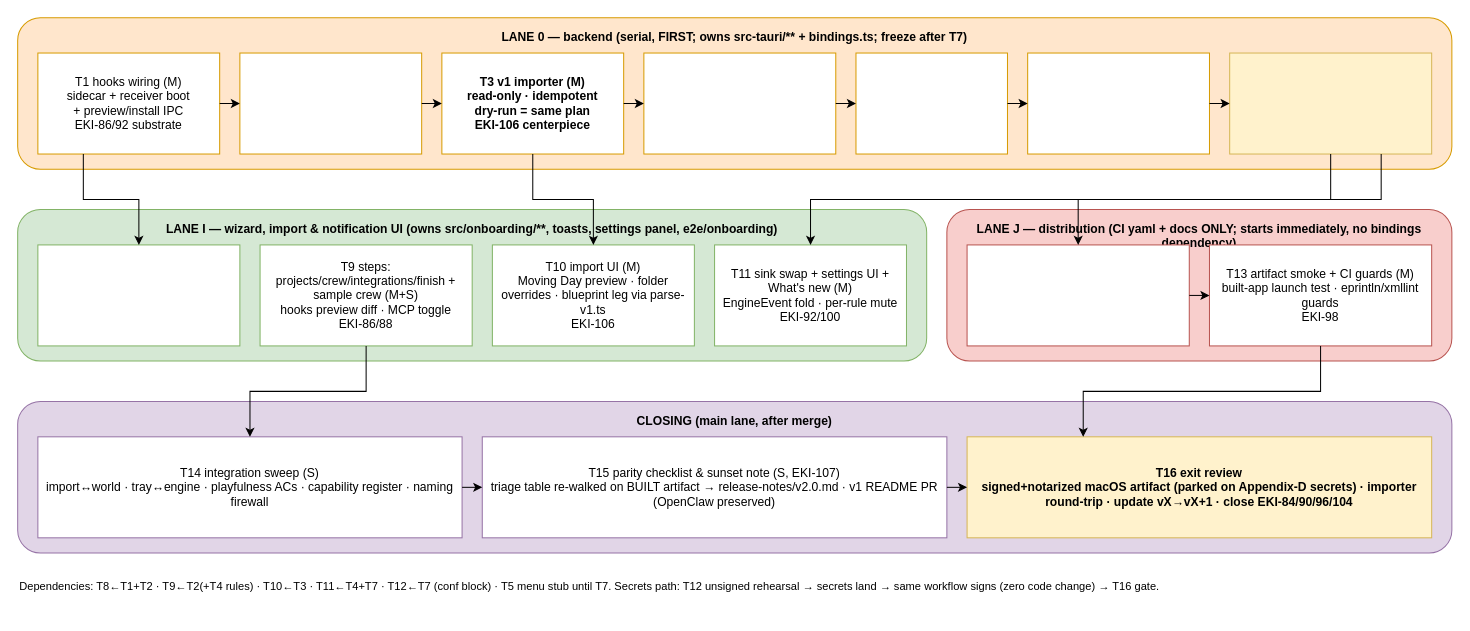
The diagram is 1470 pixels wide and 631 high, and some of its shapes have lost their labels. Here are the shapes that lost their labels. From the top down, the centre of each, then its label:
At (330,103): "T2 onboarding backend (M) detect / scan / sample crew EKI-86/88".
At (739,103): "T4 triggers + OS sink plumbing (S) +5 triggers · plugin · capability row EKI-92".
At (931,103): "T5 tray & dock (S) counts + badge EKI-94".
At (1118,103): "T6 errlog + report bundle (S) ring · panic hook · 23 eprintln EKI-102".
At (1330,103): "T7 updater (M) pubkey pinned · What's-new notes EKI-100 — FREEZE".
At (138,295): "T8 wizard shell + step machine (M) overlay · skip/resume · detect step EKI-86".
At (1077,295): "T12 release.yml + runbook (L) secrets degradation · version-sync EKI-98".
